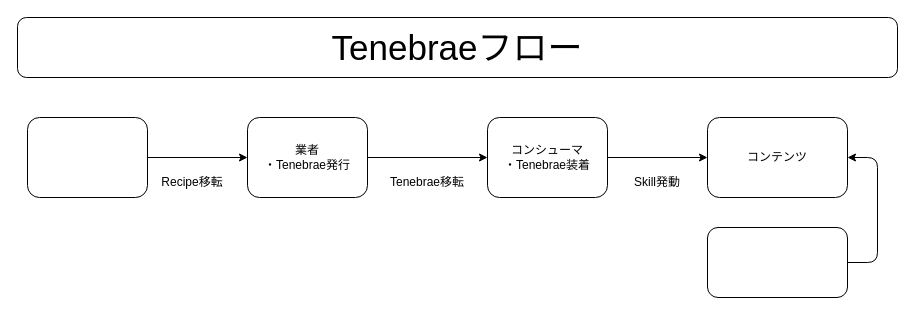
This 915x315 diagram has some shape labels left out. Here are the shapes that lost their labels. From the top down, the box of each, then its label:
(26, 116, 148, 198): 運営者 ・Recipe発行
(706, 226, 848, 298): パブリッシャー ・Skill発動状況を取得、コンテンツに反映
